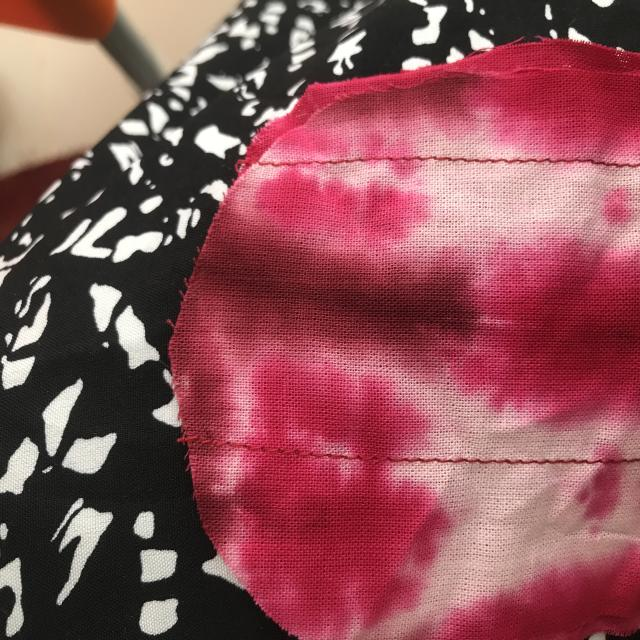good: (468, 446, 536, 476), (468, 148, 556, 170)
